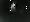person: (11, 2, 16, 15)
